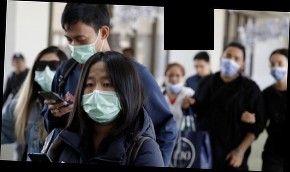mask_weared_incorrect: (164, 71, 185, 94)
with_mask: (80, 71, 124, 124), (34, 56, 63, 92), (220, 50, 244, 76), (269, 58, 288, 81)
without_mask: (193, 60, 210, 77)
